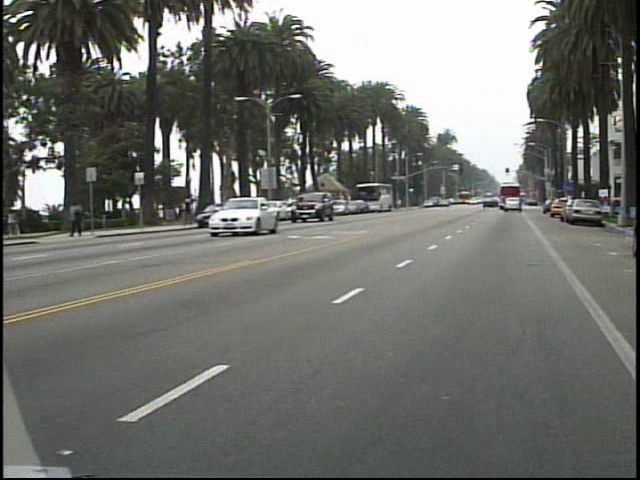person: (73, 194, 95, 239), (186, 190, 205, 225)
